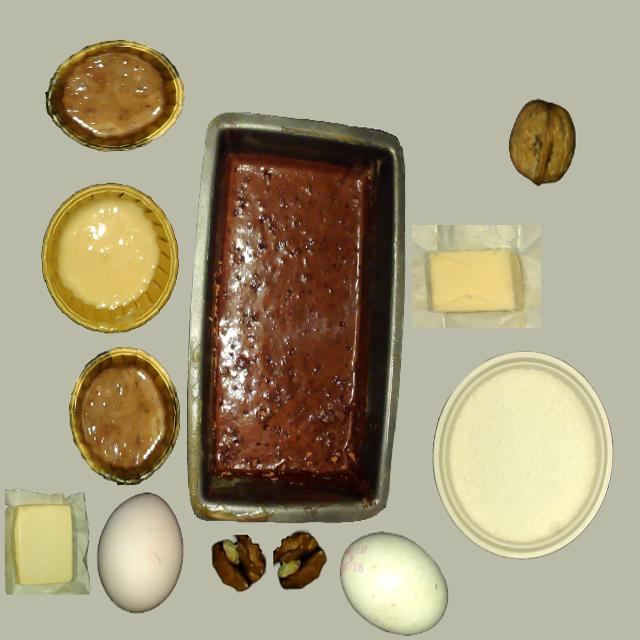Sugar: (445, 367, 597, 551)
Walnut: (509, 100, 575, 186)
